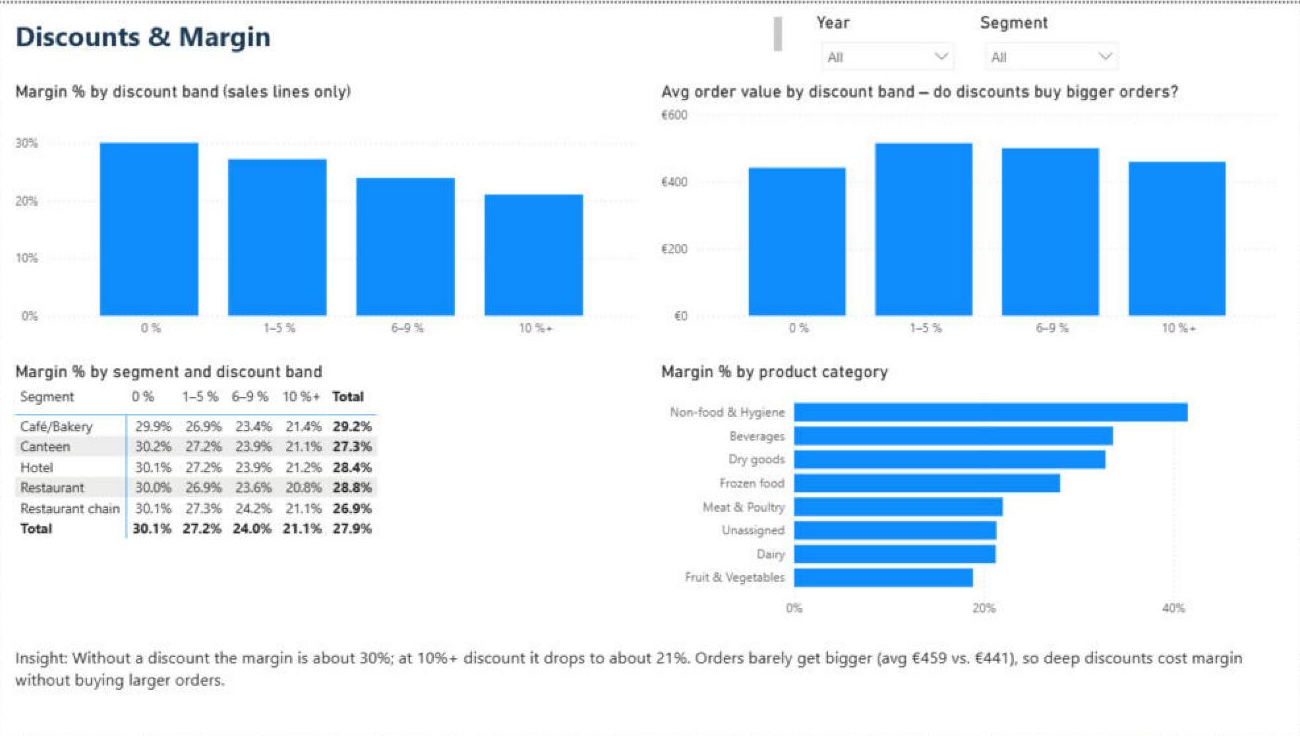

What the dashboard file says about the page in this screenshot:
{"tool":"powerbi","page":{"name":"Discounts & Margin","canvas":[1280,720],"ordinal":2},"visuals":[{"type":"textbox","box":[16,8,760,44],"z":1000},{"type":"slicer","title":"Year","fields":{"Values":["DimDate.Year"]},"box":[800,8,150,62],"z":2000},{"type":"slicer","title":"Segment","fields":{"Values":["DimCustomer.segment"]},"box":[960,8,150,62],"z":3000},{"type":"clusteredColumnChart","title":"Margin % by discount band (sales lines only)","fields":{"Category":["FactSales.discount_band"],"Y":["_Measures.Margin % (Sales Lines)"]},"box":[16,76,620,260],"z":4000},{"type":"clusteredColumnChart","title":"Avg order value by discount band – do discounts buy bigger orders?","fields":{"Category":["FactSales.discount_band"],"Y":["_Measures.Avg Order Value (Sales Lines)"]},"box":[648,76,616,260],"z":5000},{"type":"pivotTable","title":"Margin % by segment and discount band","fields":{"Columns":["FactSales.discount_band"],"Rows":["DimCustomer.segment"],"Values":["_Measures.Margin % (Sales Lines)"]},"box":[16,350,620,260],"z":6000},{"type":"clusteredBarChart","title":"Margin % by product category","fields":{"Category":["DimProduct.category"],"Y":["_Measures.Margin %"]},"box":[648,350,616,260],"z":7000},{"type":"textbox","box":[16,624,1248,80],"z":8000}]}

Visuals, with their boxes in screenshot pixels (x1, y1, x2, y2), scaled from the page's 1280x720 canvas onto the 1300x736 screenshot:
textbox: crop(16, 8, 788, 53)
"Year" slicer: crop(812, 8, 965, 72)
"Segment" slicer: crop(975, 8, 1127, 72)
"Margin % by discount band (sales lines only)" clusteredColumnChart: crop(16, 78, 646, 343)
"Avg order value by discount band – do discounts buy bigger orders?" clusteredColumnChart: crop(658, 78, 1284, 343)
"Margin % by segment and discount band" pivotTable: crop(16, 358, 646, 624)
"Margin % by product category" clusteredBarChart: crop(658, 358, 1284, 624)
textbox: crop(16, 638, 1284, 720)
